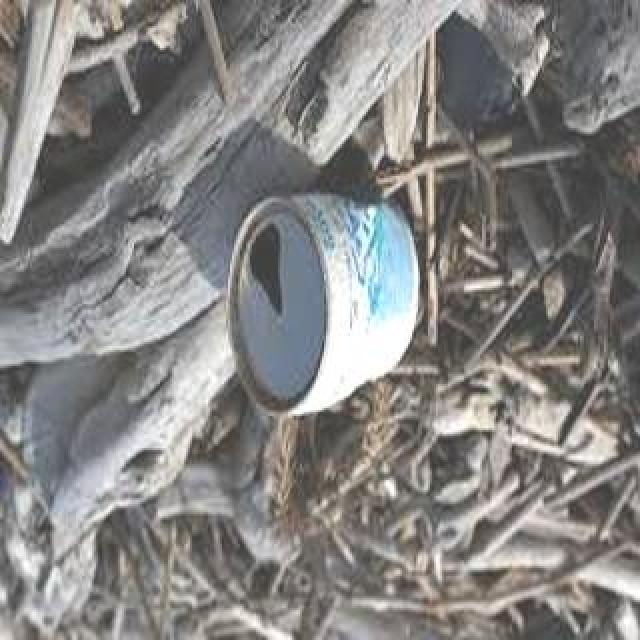Can: (227, 190, 429, 426)
